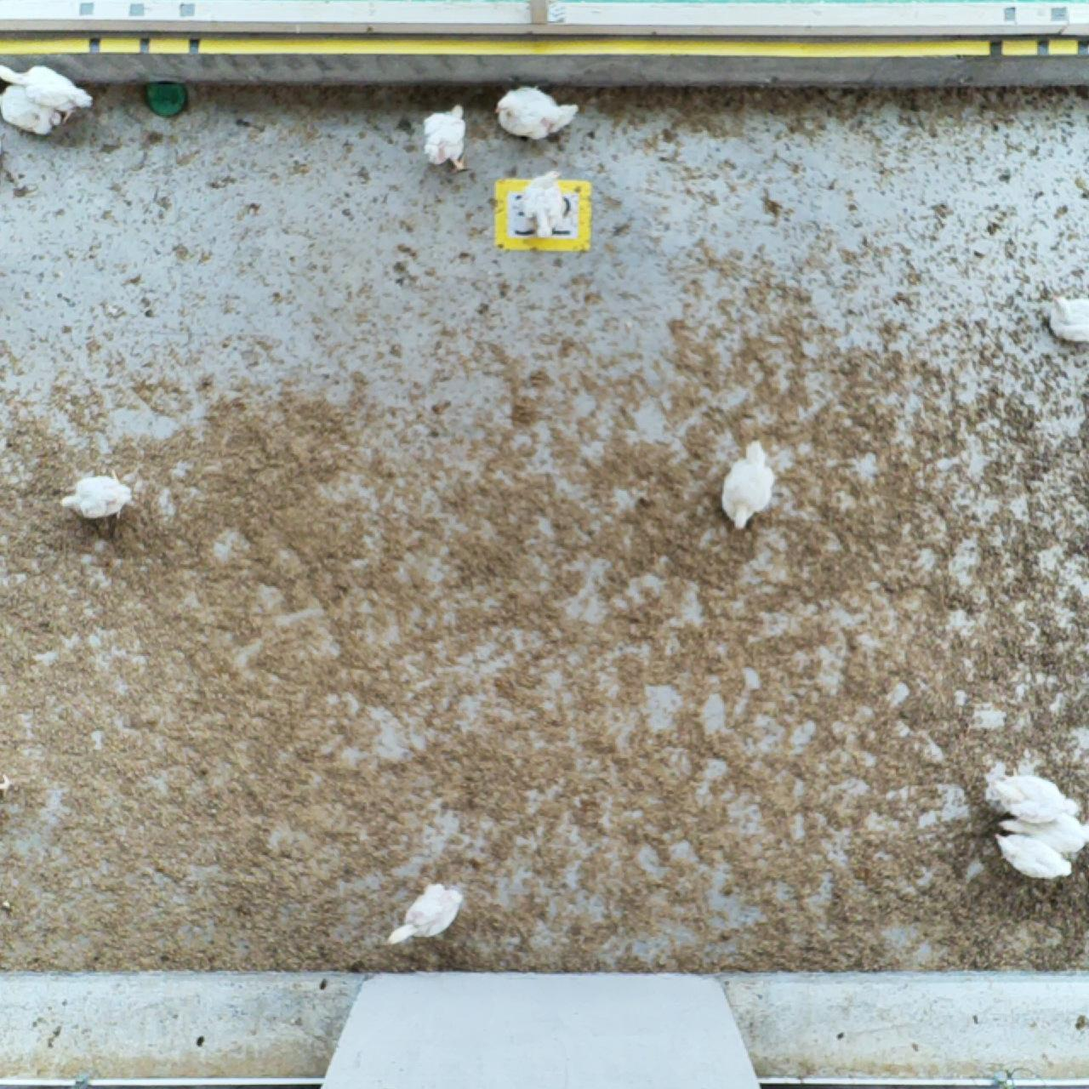chicken: (709, 429, 784, 535), (385, 874, 467, 949), (487, 82, 584, 145), (989, 825, 1082, 890), (991, 803, 1089, 860), (990, 770, 1089, 825), (4, 58, 90, 120), (59, 473, 140, 526), (420, 105, 476, 176), (520, 176, 567, 240), (1, 85, 53, 140), (1048, 287, 1089, 356)
